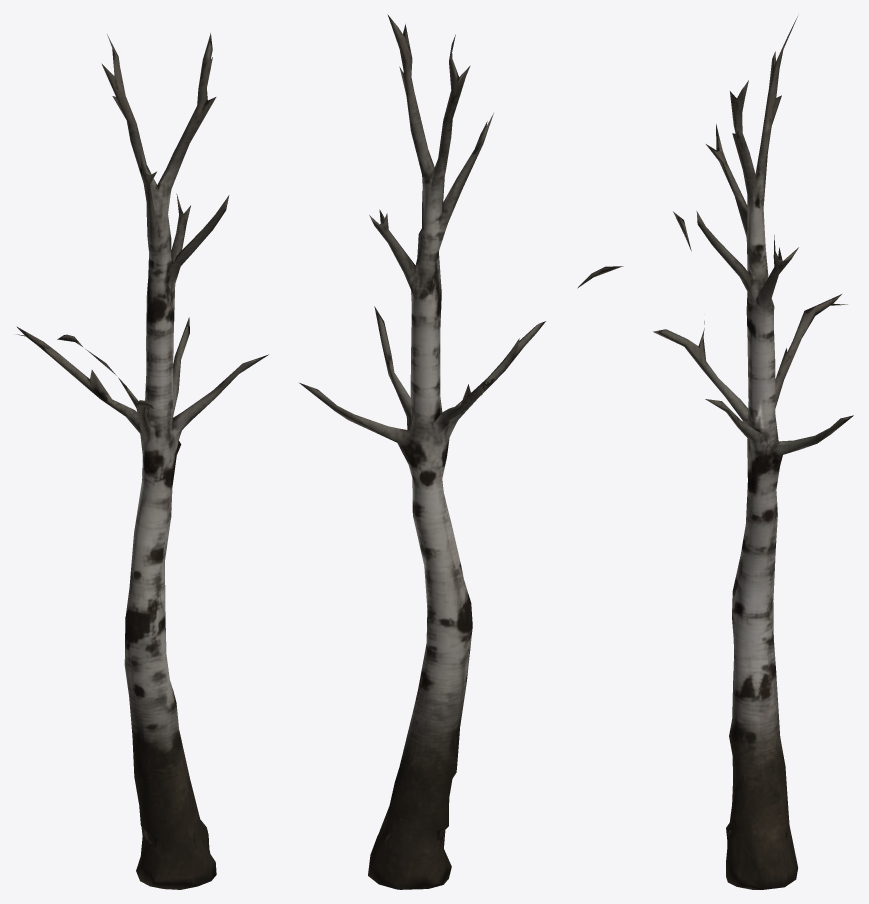
File: haunted-tree-3.glb
The picture shows the model from 3 angles, left to right: view 1: azimuth 30°, elevation 25°; view 2: azimuth 150°, elevation 25°; view 3: azimuth 270°, elevation 25°; orthographic projection. The views are drawn at different scales.
Parts seen in each view (by area): view 1: geometry_0; view 2: geometry_0; view 3: geometry_0.
Boxes of the visible parts, box(x1,y1,x2,y2) form: geometry_0: box(16, 33, 268, 889); geometry_0: box(299, 14, 623, 889); geometry_0: box(653, 16, 853, 889).
Bounding box in the file's own units: 0.2602 × 0.9335 × 0.2057.
Materials: 1 (1 with a texture image).
